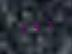nine: (30, 20, 40, 33)
seven: (41, 19, 51, 32)
two: (18, 21, 28, 34)
